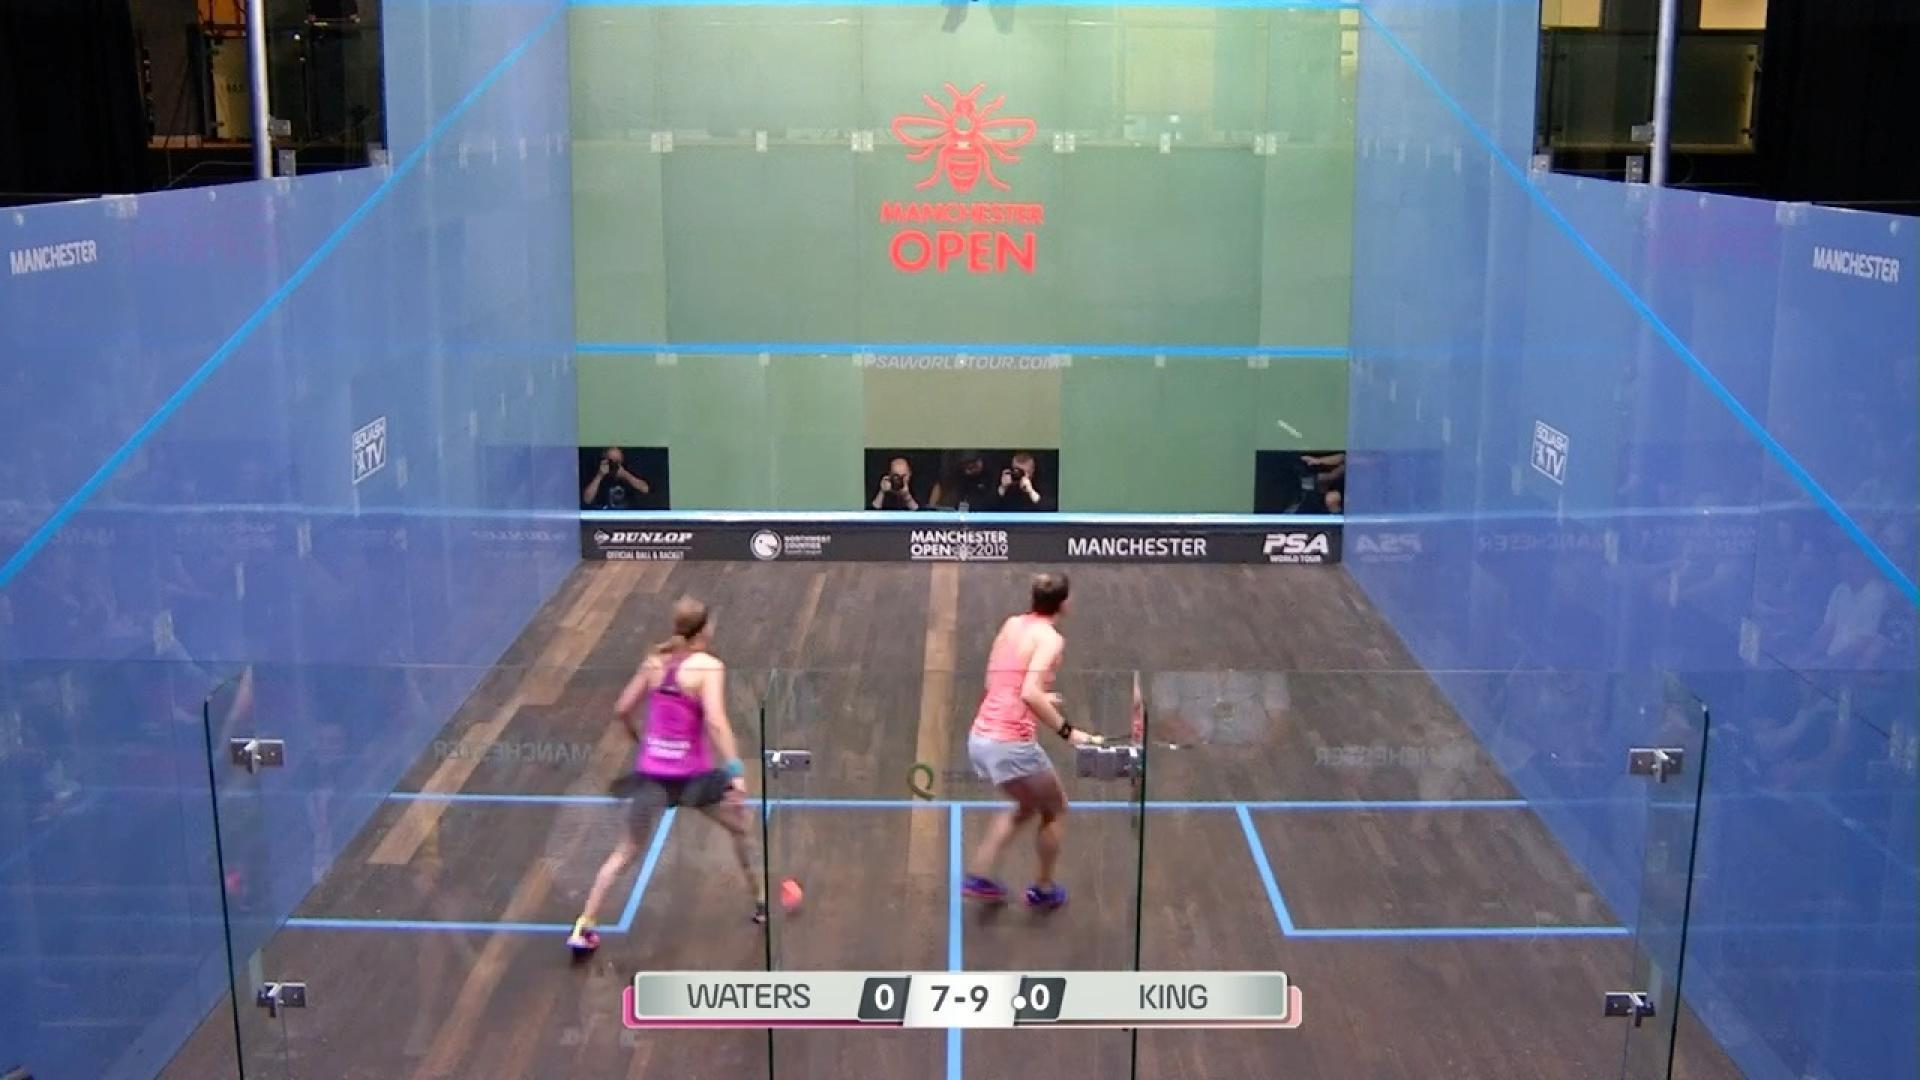Squash-Ball: (1275, 407, 1315, 464)
